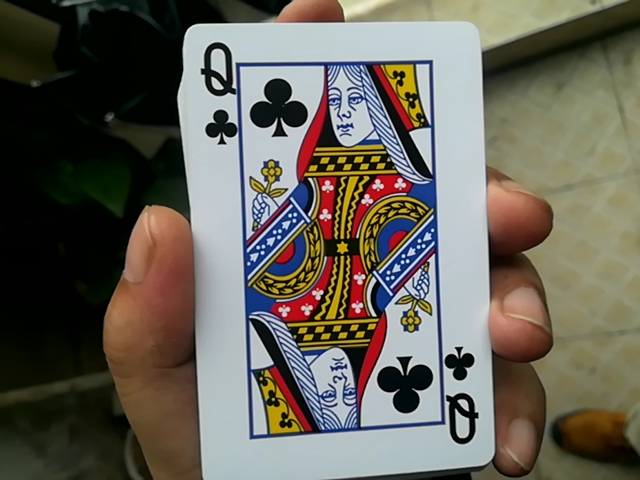mh q: (167, 20, 495, 477)
